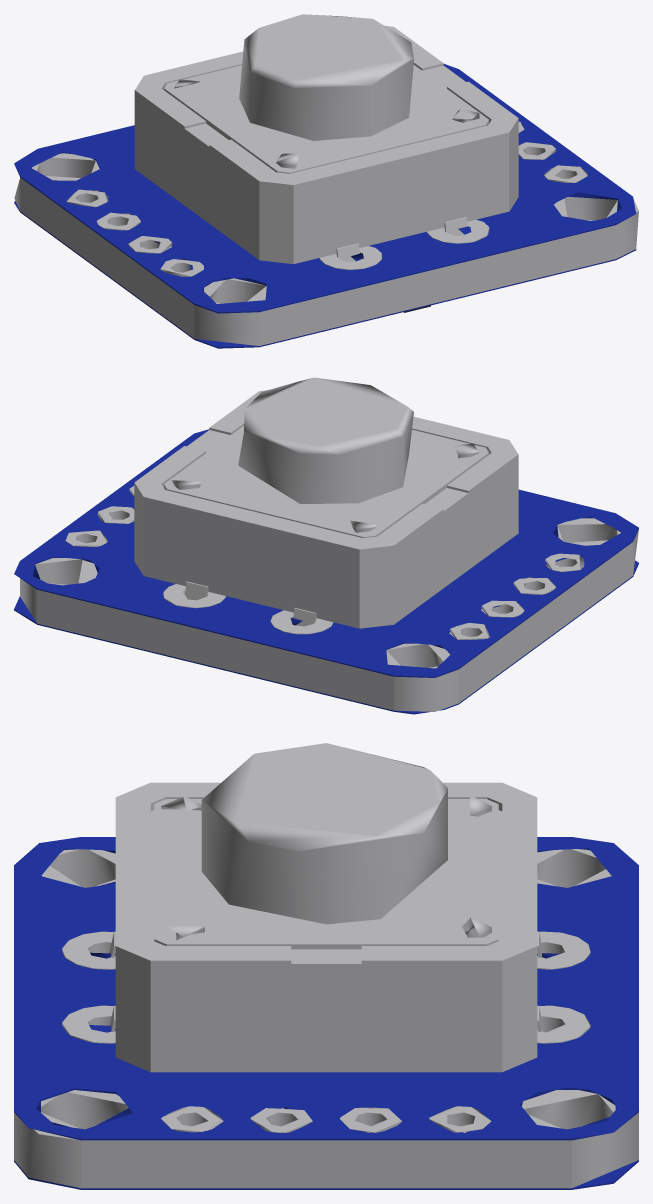
Rendered from ada-1400.glb.
3 views of the same model, one above another, from view 1: azimuth 30°, elevation 25°; view 2: azimuth 150°, elevation 25°; view 3: azimuth 270°, elevation 25° (orthographic). The views are drawn at different scales.
Visible parts, largest first — view 1: 0.5833333333333334_0.5833333333333334_0.5833333333333334_0.8, 0_0_0.4166666666666667_0; view 2: 0.5833333333333334_0.5833333333333334_0.5833333333333334_0.8, 0_0_0.4166666666666667_0; view 3: 0.5833333333333334_0.5833333333333334_0.5833333333333334_0.8, 0_0_0.4166666666666667_0.
Part boxes in pixels (box(x1,y1,x2,y2)): 0.5833333333333334_0.5833333333333334_0.5833333333333334_0.8: box(14, 14, 638, 345); 0_0_0.4166666666666667_0: box(14, 64, 636, 348); 0.5833333333333334_0.5833333333333334_0.5833333333333334_0.8: box(20, 377, 638, 711); 0_0_0.4166666666666667_0: box(14, 429, 638, 714); 0.5833333333333334_0.5833333333333334_0.5833333333333334_0.8: box(14, 743, 638, 1188); 0_0_0.4166666666666667_0: box(14, 837, 638, 1189).
Size of the model in its own units: 2.03 by 0.8958 by 1.78.
